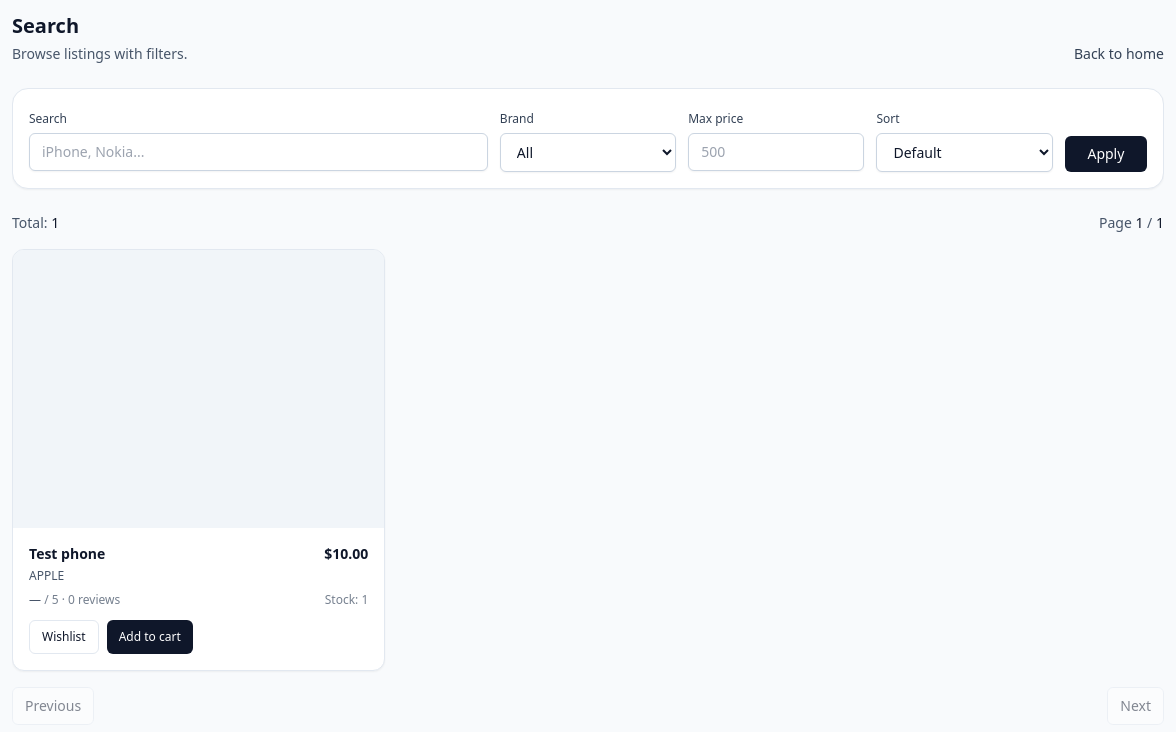
SearchPage › adds to cart when authenticated and shows a success toast
expect the link "Test phone" is shown: met, box [29,544,105,564]
Click the button "Add to cart" at point(150, 638), box [107,620,193,654]
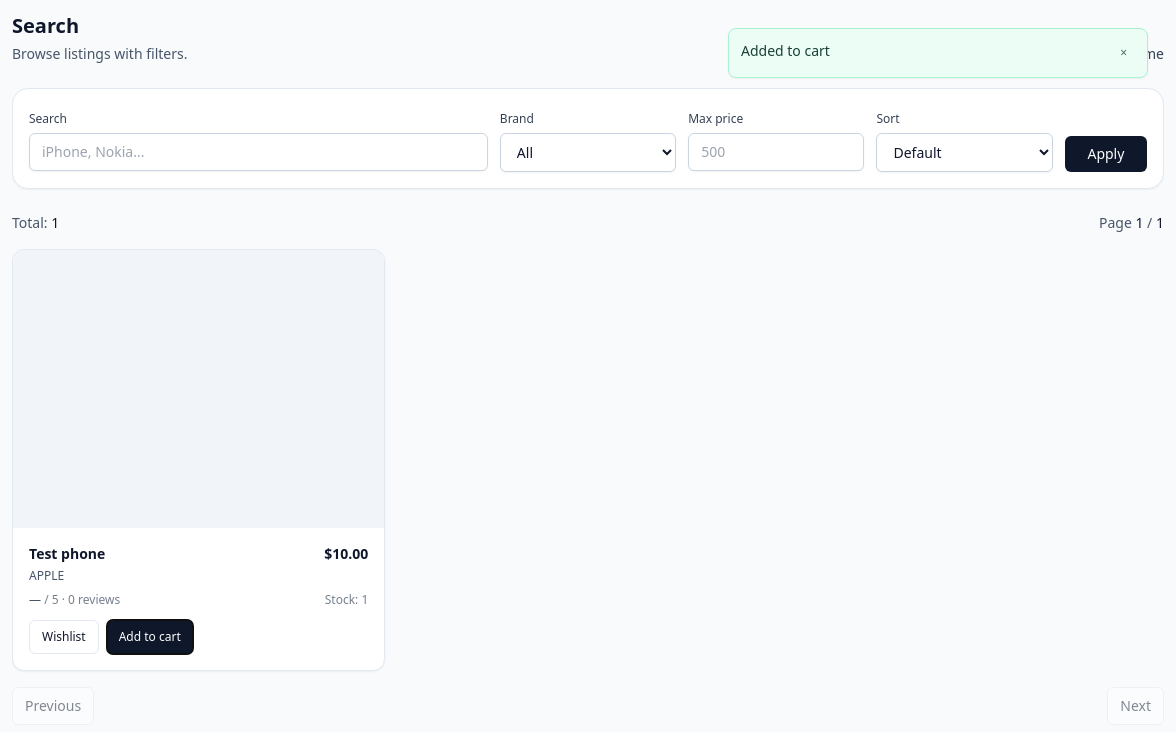
expect the text "Added to cart" is shown: met, box [741,41,830,60]
